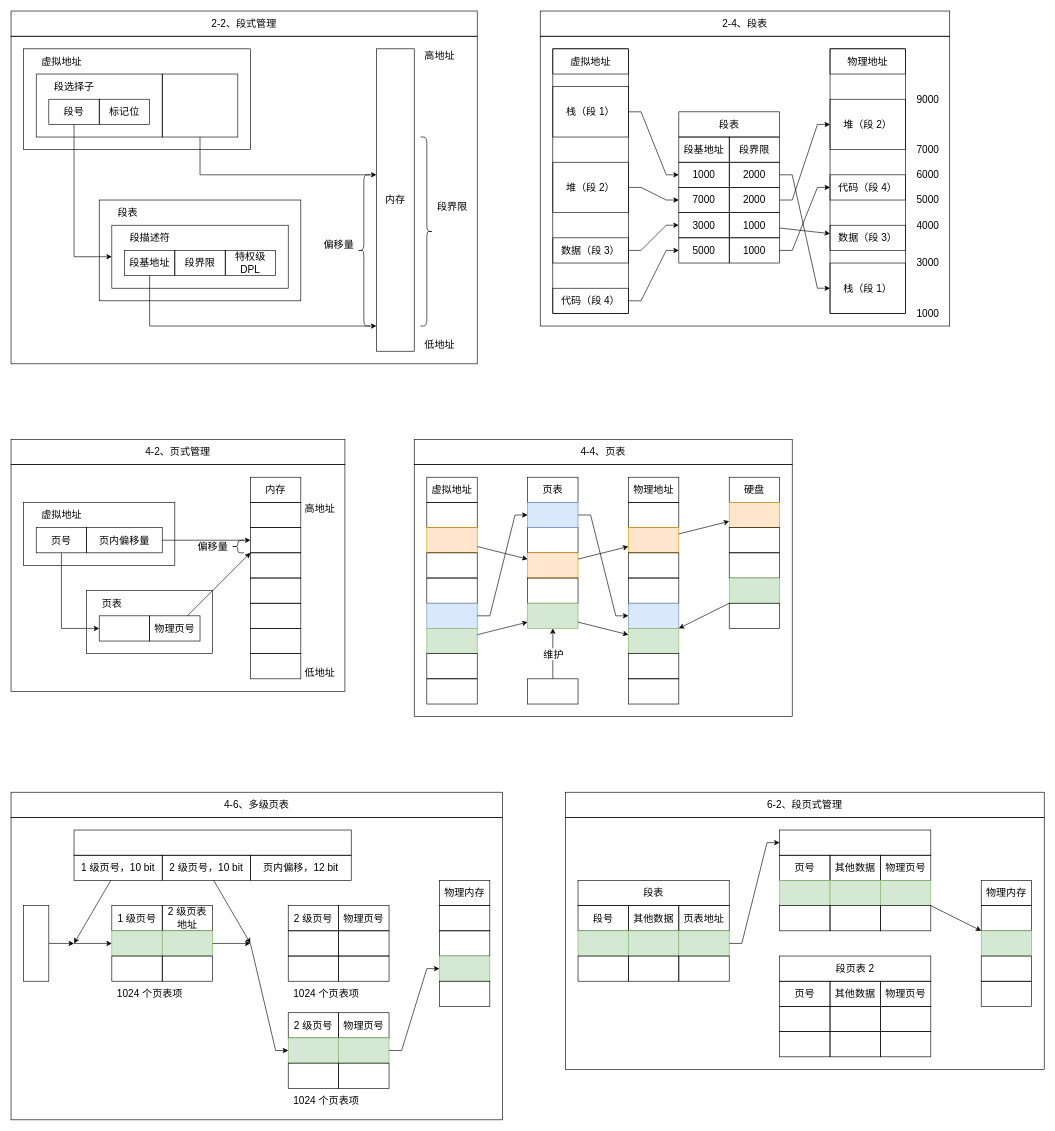
The diagram is 1055 pixels wide and 1131 high, and some of its shapes have lost their labels. The shapes that lost their labels are listed below. From the top down, each one's centre as x and y in pixels, then its label:
At (x=200, y=105): "段内偏移量".
At (x=124, y=628): "虚拟页号".
At (x=552, y=691): "MMU".
At (x=212, y=842): "虚拟地址，32 bit".
At (x=855, y=842): "段页表 1".
At (x=36, y=943): "页 表 寄 存 器".
